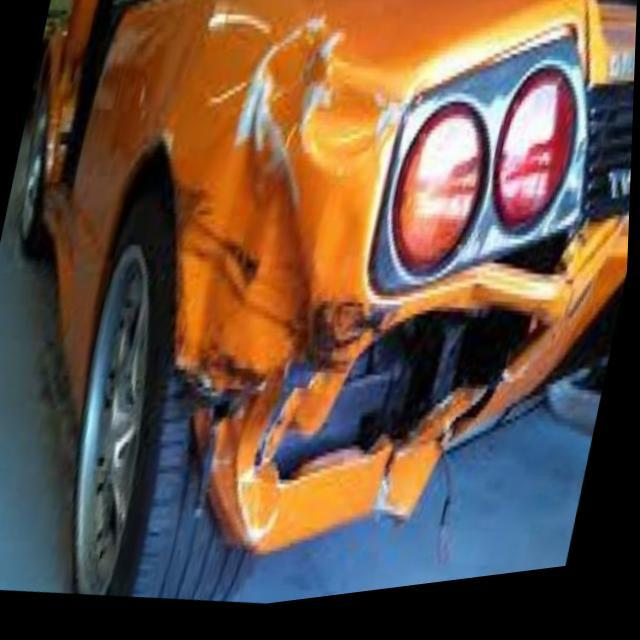dislocated part: (171, 6, 633, 568)
